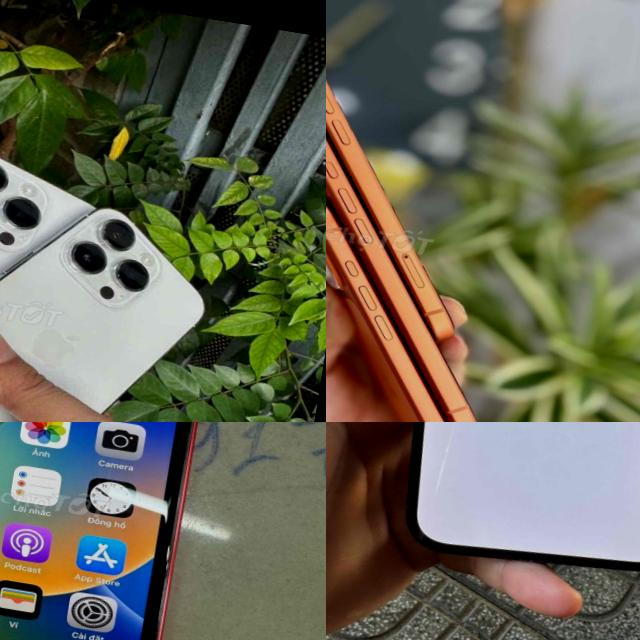gen_14: (373, 422, 640, 593)
gen_17: (326, 0, 566, 422)
gen_7_8: (0, 422, 232, 640)
